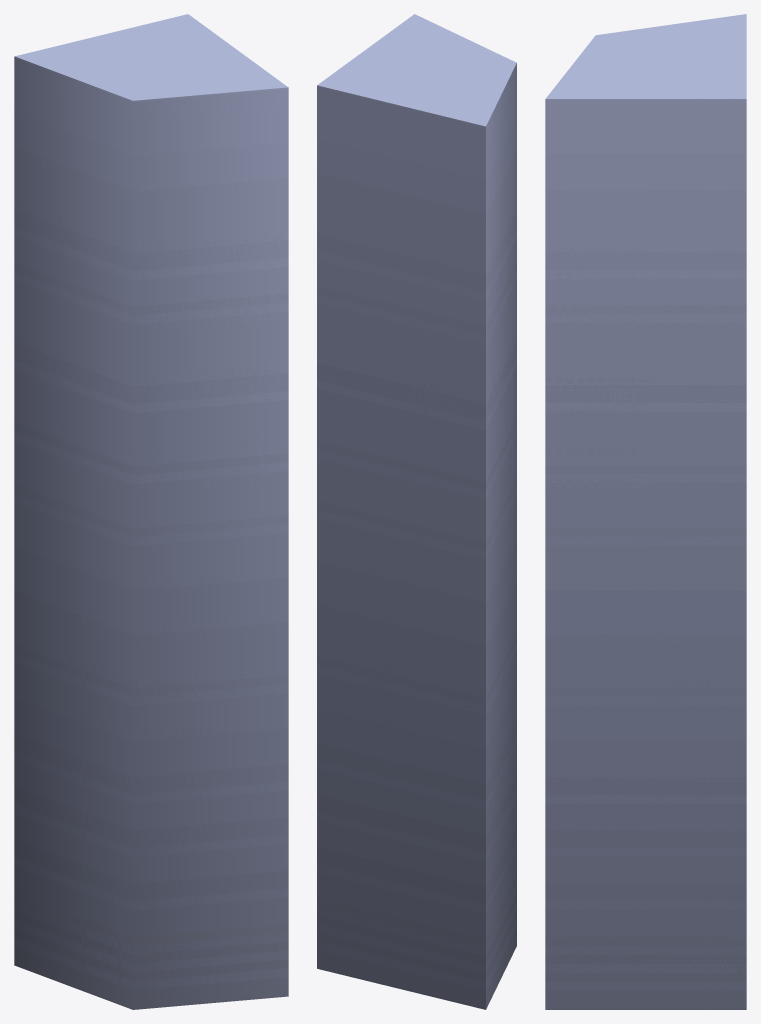
Rendered from architecture.column.blockout_column_rounded_01.glb.
3 views of the same model, side by side, from view 1: azimuth 30°, elevation 25°; view 2: azimuth 150°, elevation 25°; view 3: azimuth 270°, elevation 25° (orthographic). The views are drawn at different scales.
Visible parts, largest first — view 1: column-rounded; view 2: column-rounded; view 3: column-rounded.
Boxes of the visible parts, x1=… form: column-rounded: x1=14, y1=14, x2=288, y2=1009; column-rounded: x1=317, y1=14, x2=516, y2=1009; column-rounded: x1=545, y1=14, x2=746, y2=1009.
Bounding box in the file's own units: 0.2 × 1 × 0.2.
1 material, 1 textured.
